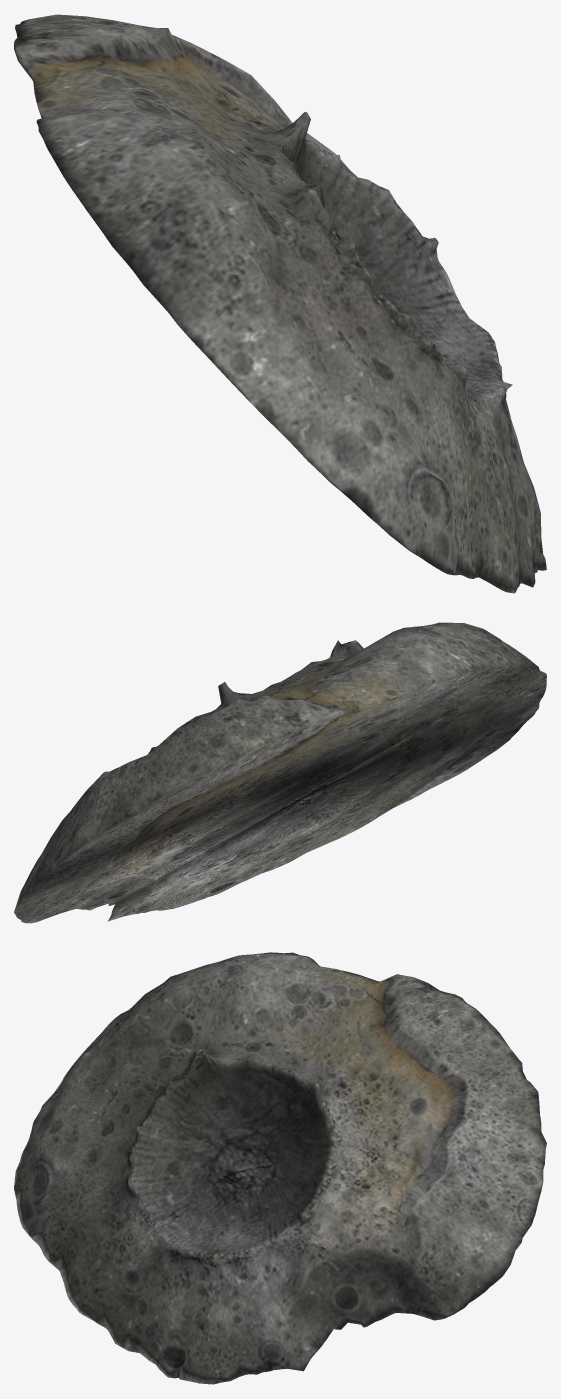
Rendered from PsycheSlice.glb.
The picture shows the model from 3 angles, top to bottom: view 1: azimuth 30°, elevation 25°; view 2: azimuth 150°, elevation 25°; view 3: azimuth 270°, elevation 25°; orthographic projection. The views are drawn at different scales.
Parts seen in each view (by area): view 1: psyche_LP.001; view 2: psyche_LP.001; view 3: psyche_LP.001.
Boxes of the visible parts, box(x1,y1,x2,y2) form: psyche_LP.001: box(14, 14, 546, 593); psyche_LP.001: box(14, 622, 546, 923); psyche_LP.001: box(14, 952, 546, 1384).
Size of the model in its own units: 5.8 by 5.67 by 8.94.
Materials: 1 (1 with a texture image).
